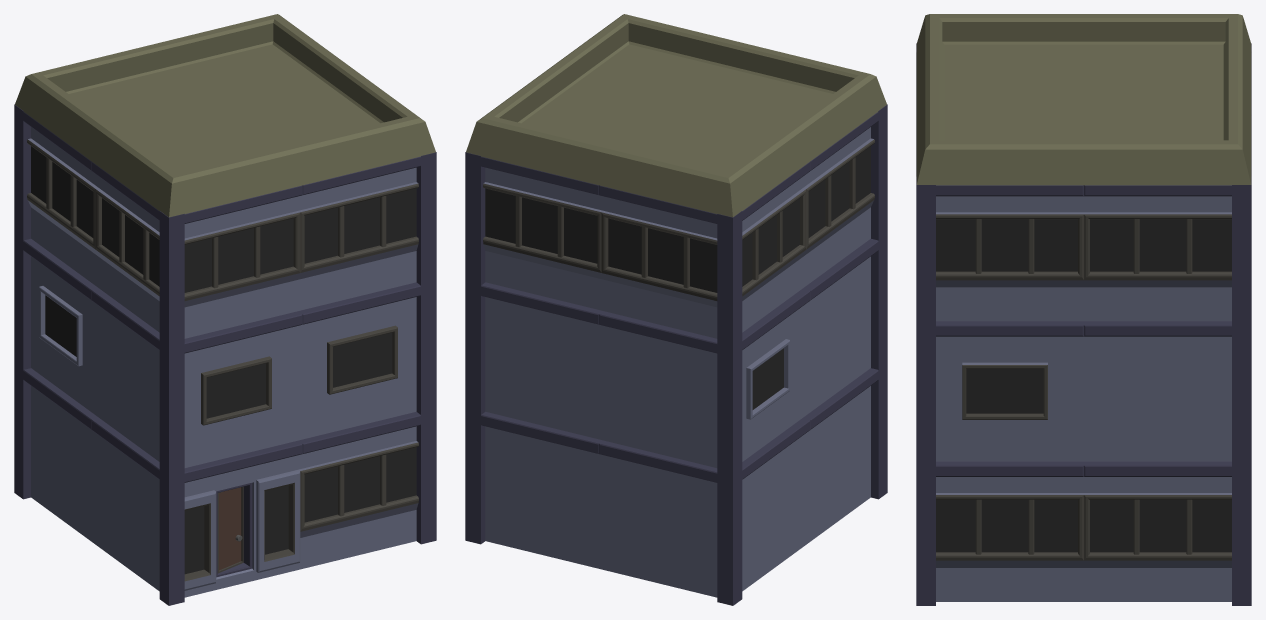
Rendered from edificio_07.fbx.
3 views of the same model, side by side, from view 1: azimuth 30°, elevation 25°; view 2: azimuth 150°, elevation 25°; view 3: azimuth 270°, elevation 25° (orthographic). The views are drawn at different scales.
Visible parts, largest first — view 1: EDIFICIO_01; view 2: EDIFICIO_01; view 3: EDIFICIO_01.
Part boxes in pixels (box(x1,y1,x2,y2)): EDIFICIO_01: box(14, 14, 436, 605); EDIFICIO_01: box(465, 14, 887, 605); EDIFICIO_01: box(916, 14, 1251, 605).
Size of the model in its own units: 2000 by 3001 by 2000.
